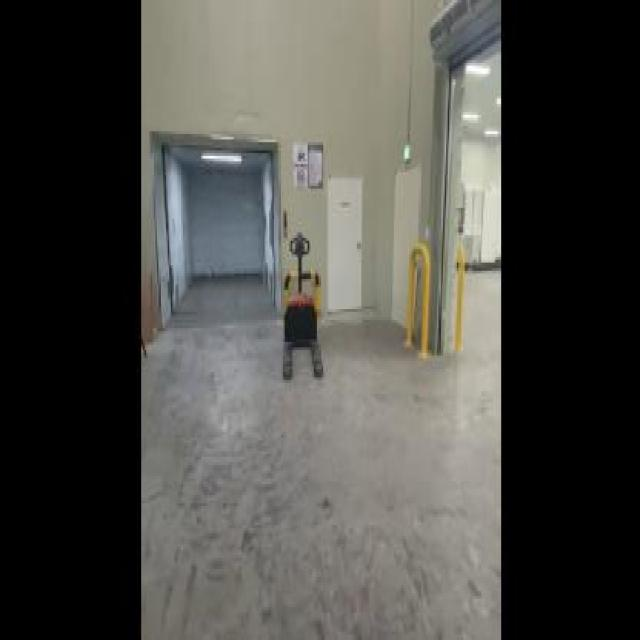robot: (279, 232, 326, 383)
